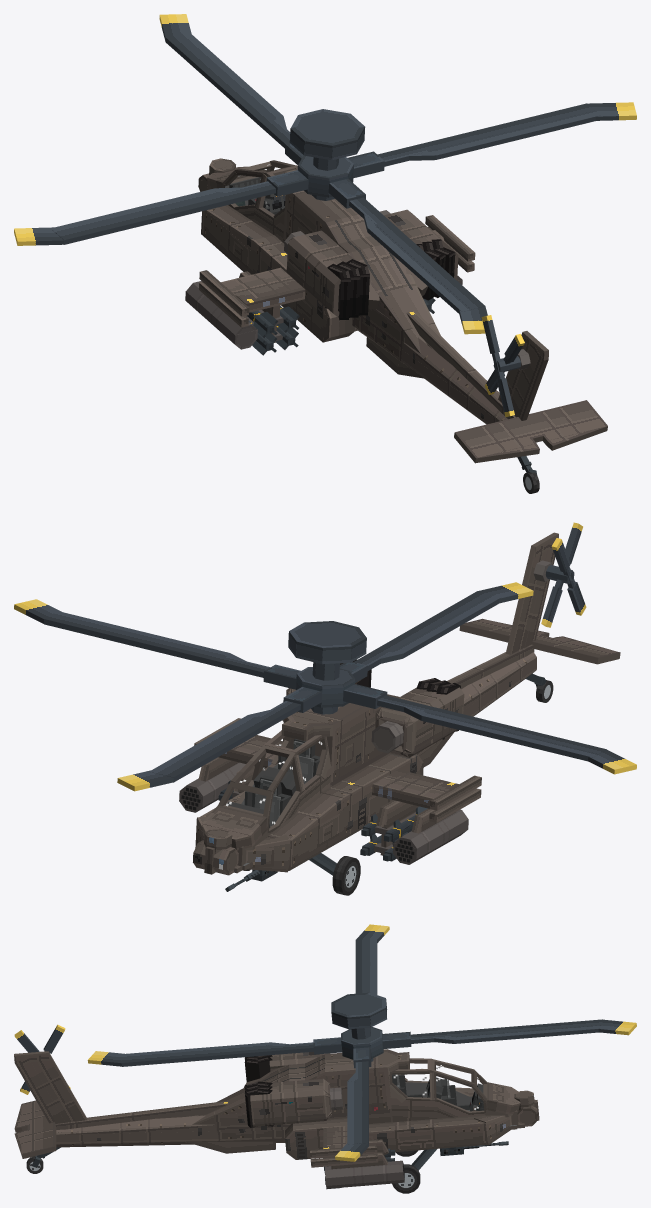
3 views of the same model, one above another, from view 1: azimuth 30°, elevation 25°; view 2: azimuth 150°, elevation 25°; view 3: azimuth 270°, elevation 25° (orthographic). The views are drawn at different scales.
Visible parts, largest first — view 1: cube (×37); view 2: cube (×45); view 3: cube (×44).
Boxes of the visible parts, x1,y1,x2,y2 form: cube (×37): (14, 32, 636, 457); cube (×45): (14, 542, 636, 870); cube (×44): (15, 938, 636, 1185).
Bounding box in the file's own units: 17.5 × 5.98 × 19.78.
1 material, 1 textured.
